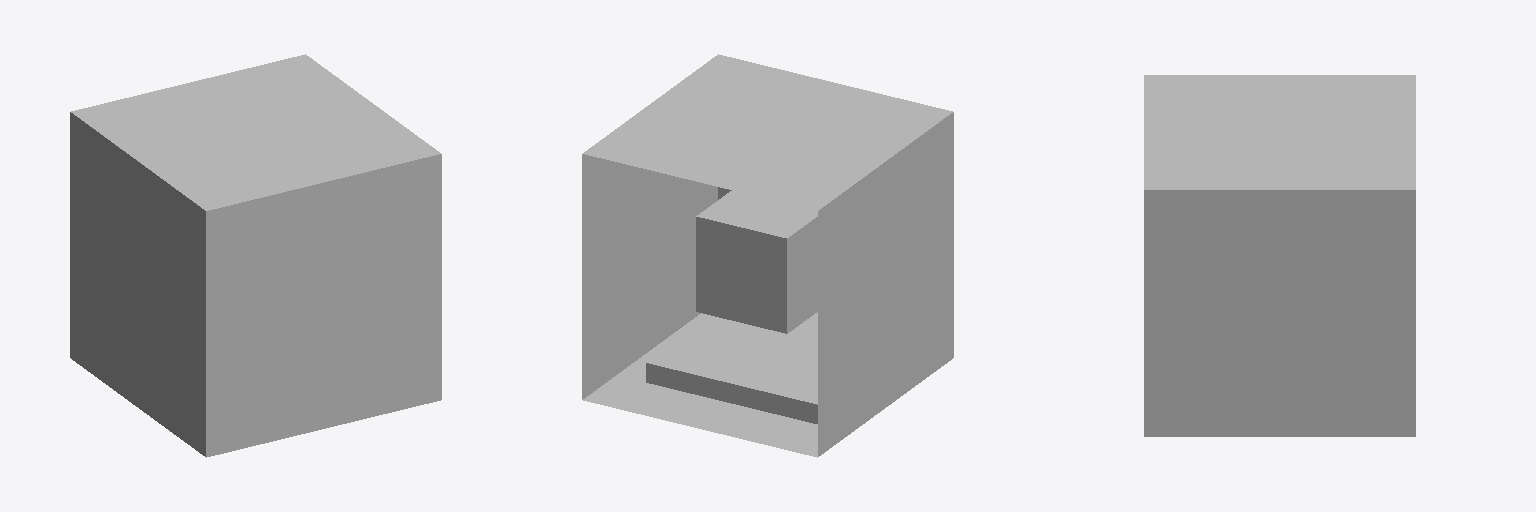
File: wiatrka13.obj
3 views of the same model, side by side, from view 1: azimuth 30°, elevation 25°; view 2: azimuth 150°, elevation 25°; view 3: azimuth 270°, elevation 25° (orthographic).
Visible parts, largest first — view 1: Cube.001; view 2: Cube.001; view 3: Cube.001.
Boxes of the visible parts, <box> form: Cube.001: <box>70,54,441,457</box>; Cube.001: <box>582,54,953,457</box>; Cube.001: <box>1144,75,1415,436</box>.
Bounding box in the file's own units: 0.0311 × 0.0311 × 0.0311.